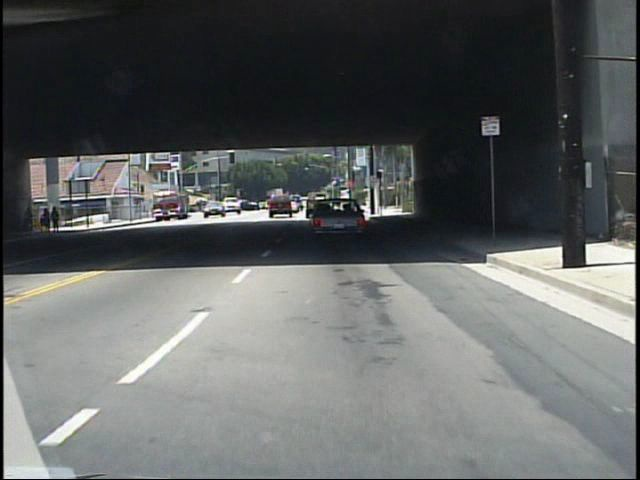person: (36, 205, 49, 233), (21, 204, 32, 236), (48, 204, 59, 233)
